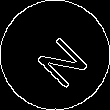N_NW: (23, 23, 87, 87)
